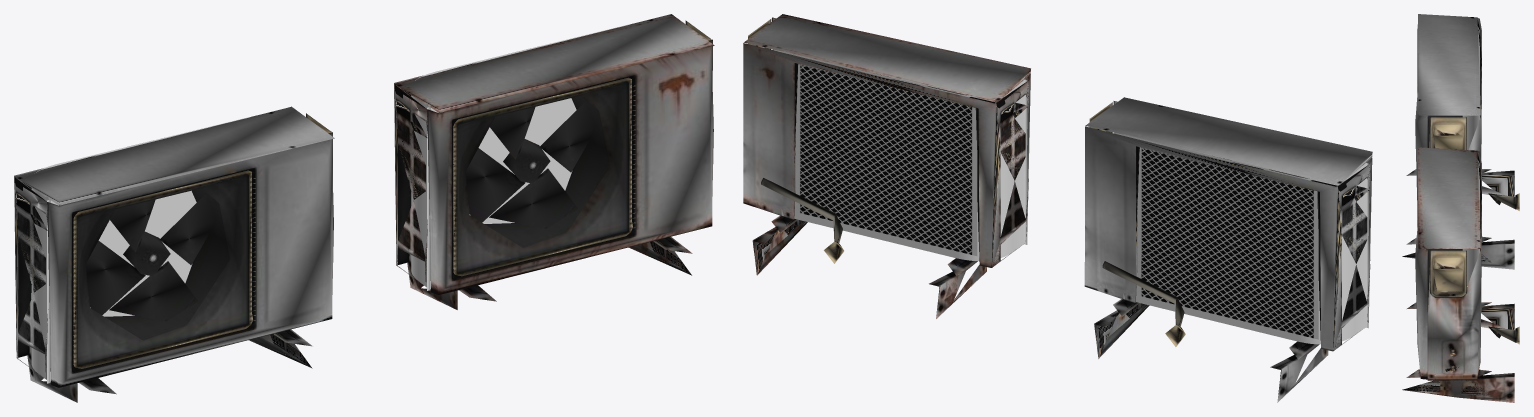
File: exterior_aircon_unit.glb
3 views of the same model, side by side, from view 1: azimuth 30°, elevation 25°; view 2: azimuth 150°, elevation 25°; view 3: azimuth 270°, elevation 25° (orthographic). The views are drawn at different scales.
Visible parts, largest first — view 1: exterior_aircon_unit_rusted, exterior_aircon_unit; view 2: exterior_aircon_unit_rusted, exterior_aircon_unit; view 3: exterior_aircon_unit_rusted, exterior_aircon_unit.
Part boxes in pixels (x1,y1,x2,y2): exterior_aircon_unit_rusted: [394, 14, 714, 309]; exterior_aircon_unit: [14, 106, 334, 402]; exterior_aircon_unit_rusted: [743, 14, 1030, 318]; exterior_aircon_unit: [1084, 97, 1372, 402]; exterior_aircon_unit_rusted: [1402, 147, 1519, 402]; exterior_aircon_unit: [1402, 14, 1519, 269].
Size of the model in its own units: 1.8 by 0.6027 by 0.3741.
4 materials, 4 textured.
